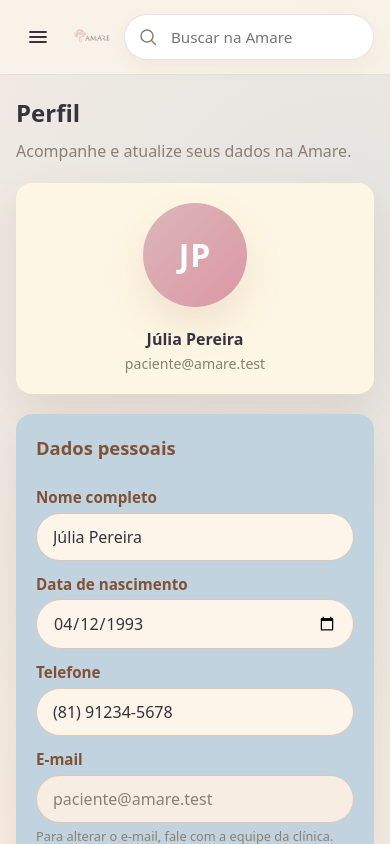
Test: Responsividade mobile da Amare › 4. Tocar no botao de menu abre o drawer com a sidebar
The image size is (390, 844).
Step 1. Click the button with test id "nav-abrir-drawer" → (38, 37), box x1=16 y1=15 x2=60 y2=59
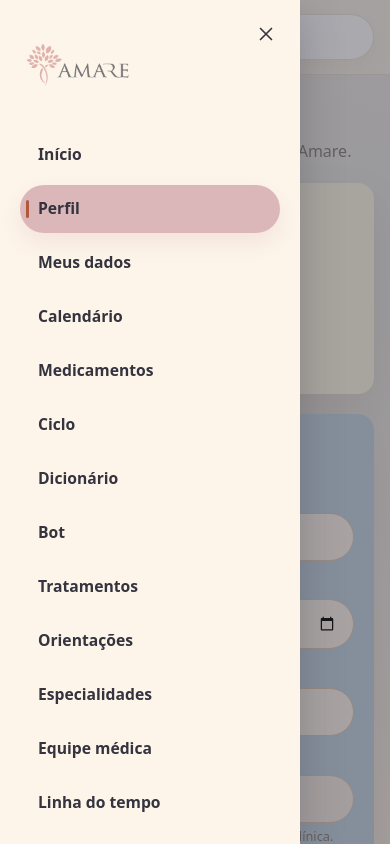
Now the dialog with test id "app-layout-drawer" is shown
Now the element with test id "app-layout-backdrop" is shown
Now the link with test id "nav-perfil" is shown, box x1=20 y1=185 x2=280 y2=233
